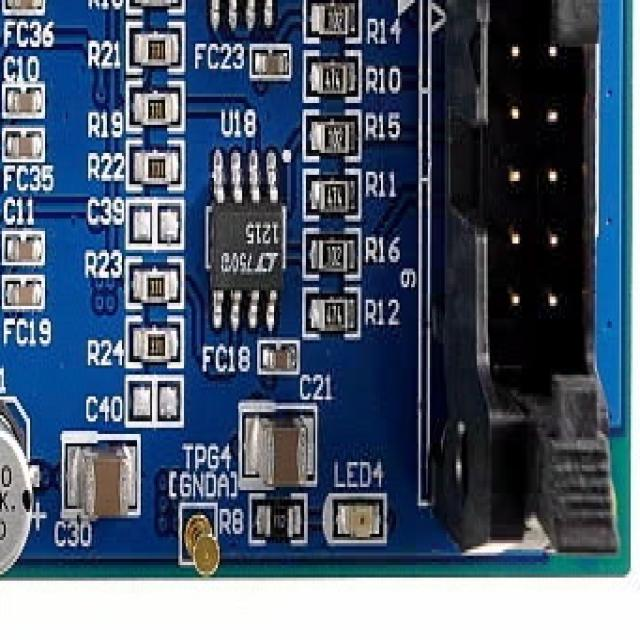IC: (199, 137, 287, 331), (195, 0, 285, 28)
LED: (330, 496, 385, 540)
capacitor: (240, 406, 316, 487), (64, 437, 139, 515), (0, 78, 45, 119), (0, 228, 43, 268), (257, 334, 300, 372), (0, 275, 43, 312), (250, 37, 289, 75), (4, 125, 43, 159), (1, 0, 43, 9)
component text: (218, 216, 278, 272), (0, 459, 17, 546), (319, 62, 342, 90), (322, 181, 342, 209), (324, 122, 344, 150), (322, 240, 342, 266), (324, 3, 342, 31), (322, 300, 342, 324)
connector: (428, 0, 615, 571)
electrolytic capacitor: (0, 396, 30, 562)
pads: (126, 200, 182, 243), (126, 378, 182, 421)
resistor: (302, 281, 359, 337), (300, 225, 360, 275), (124, 256, 182, 306), (126, 140, 182, 190), (250, 490, 304, 540), (306, 166, 360, 216), (128, 18, 182, 66), (304, 109, 359, 156), (126, 84, 182, 128), (306, 50, 358, 97), (126, 319, 182, 362), (304, 0, 358, 37), (126, 0, 184, 9)
test point: (180, 502, 218, 574)
